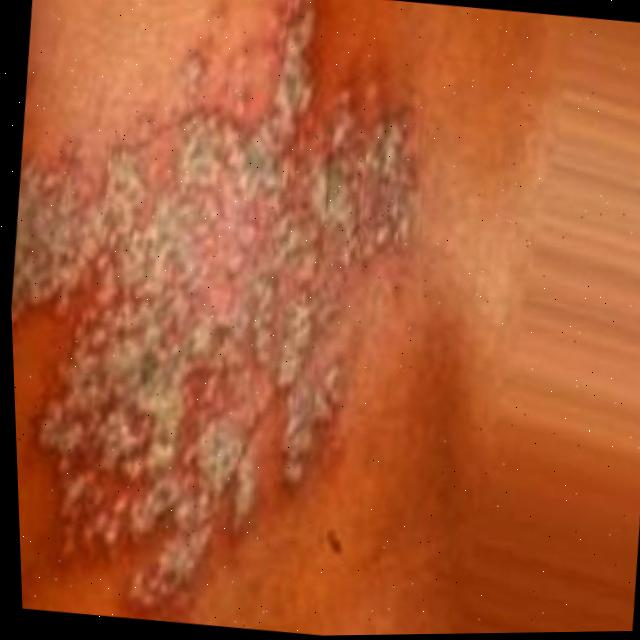Shingles: (0, 0, 457, 617)
